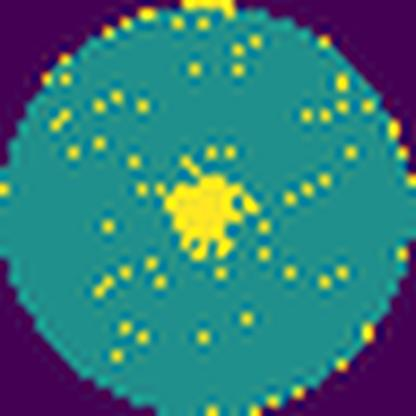Center: (168, 168, 247, 261)
